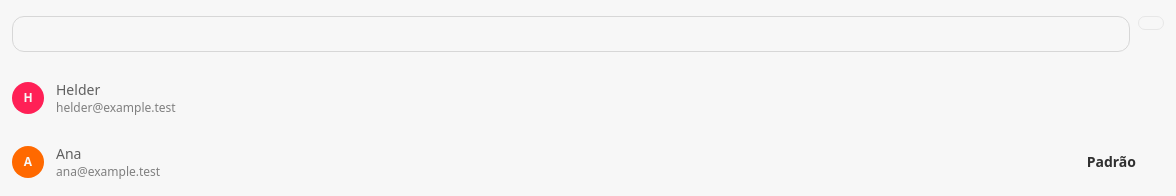
Test case: gestão compartilhada de colaboradores › preserva owner no topo, inclusive ao filtrar em workspace
Expected: the text "Helder" is shown, top-left (56, 80), bottom-right (100, 99)
Expected: the list item "H Helder helder@example.test" is shown, top-left (12, 80), bottom-right (176, 116)
In the search field: [571, 34] box top-left (12, 16), bottom-right (1130, 52), type "no-match"
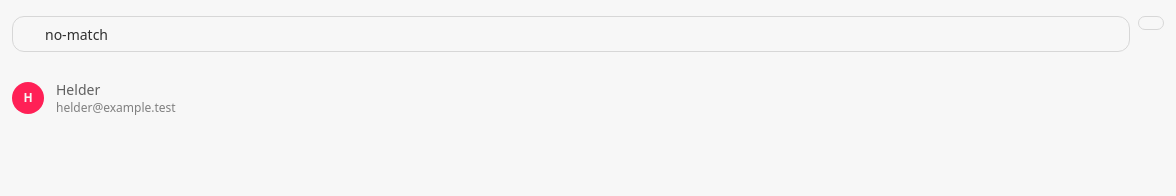
Expected: the text "Helder" is shown, top-left (56, 80), bottom-right (100, 99)
Now the number of list items is 1, box top-left (12, 80), bottom-right (176, 116)
